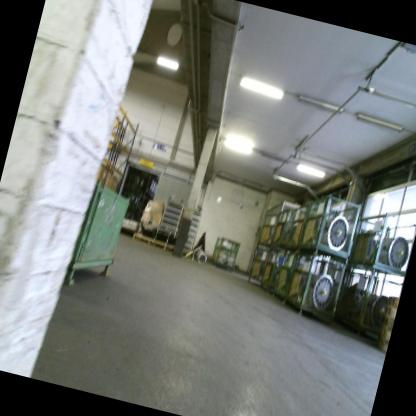pallet: (130, 231, 193, 258), (378, 325, 392, 341), (381, 314, 395, 329), (376, 334, 390, 349), (383, 304, 397, 318), (384, 296, 398, 308)
stillage: (348, 201, 416, 278), (298, 186, 365, 262), (283, 252, 347, 322), (340, 267, 403, 333), (285, 195, 343, 259), (273, 247, 318, 309), (271, 202, 312, 254), (207, 228, 245, 278), (244, 246, 270, 287), (256, 212, 281, 248), (267, 247, 286, 293), (260, 247, 279, 290), (127, 169, 142, 191), (131, 190, 141, 210), (125, 191, 137, 207), (138, 174, 146, 193)
